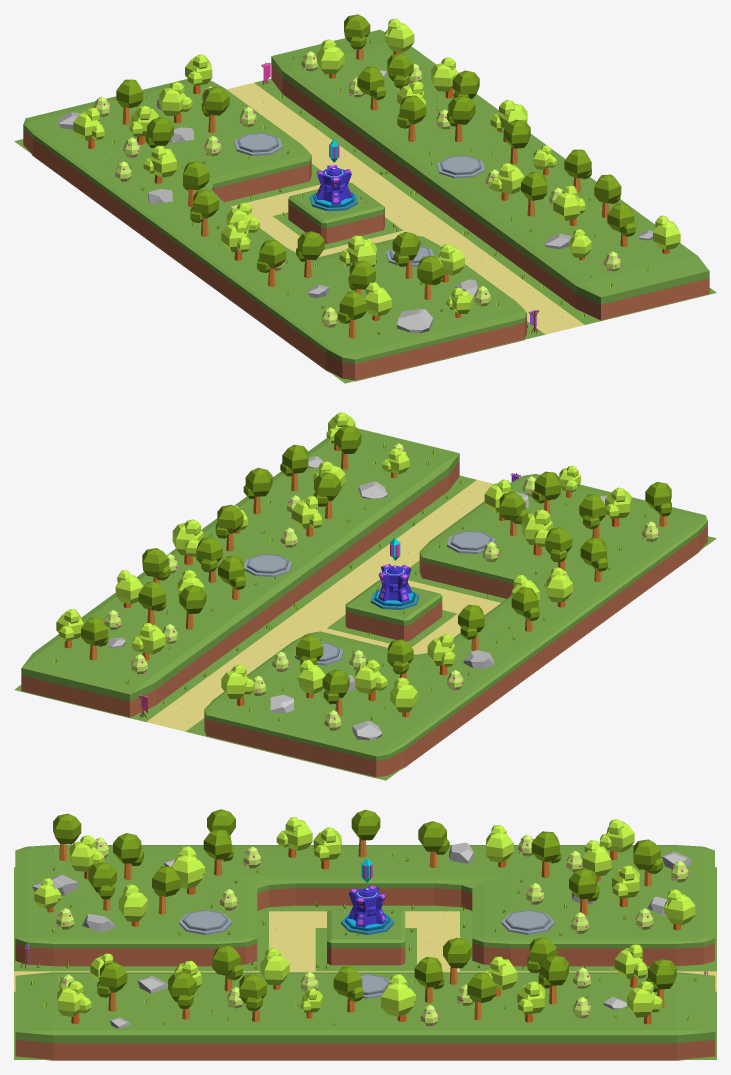
File: enviroment_02.fbx
3 views of the same model, one above another, from view 1: azimuth 30°, elevation 25°; view 2: azimuth 150°, elevation 25°; view 3: azimuth 270°, elevation 25° (orthographic). The views are drawn at different scales.
Visible parts, largest first — view 1: Cube, Cube.001, Plane, Cube.002, Tower, Platform.001, Platform.002, Cube.003, Leaves.035, Leaves.029, Leaves.084, Leaves.033 (+21 smaller); view 2: Cube, Cube.001, Plane, Cube.002, Tower, Platform.002, Platform.005, Leaves.045, Leaves, Leaves.029, Leaves.074, Leaves.089 (+13 smaller); view 3: Cube, Cube.001, Plane, Cube.002, Tower, Platform.001, Platform.005, Leaves.024, Leaves.080, Leaves.037, Leaves.041, Leaves.067 (+40 smaller).
Part boxes in pixels (x1,y1,x2,y2): Cube: (23,79,526,381); Cube.001: (271,29,709,320); Plane: (14,78,716,383); Cube.002: (288,182,384,244); Tower: (316,165,351,204); Platform.001: (234,133,282,155); Platform.002: (436,155,485,178); Cube.003: (397,308,432,333); Leaves.035: (503,119,530,148); Leaves.029: (564,149,591,178); Leaves.084: (116,79,143,108); Leaves.033: (594,174,621,203); Cube: (204,474,707,777); Cube.001: (21,428,459,717); Plane: (14,475,716,780); Cube.002: (345,580,442,641); Tower: (378,564,411,602); Platform.002: (244,554,291,576); Platform.005: (447,531,495,553); Leaves.045: (179,585,206,613); Leaves: (334,425,361,453); Leaves.029: (245,468,272,496); Leaves.074: (546,575,572,602); Leaves.089: (390,684,417,712); Cube: (15,845,714,966); Cube.001: (15,972,715,1060); Plane: (14,867,716,1059); Cube.002: (327,910,405,965); Tower: (348,885,386,927); Platform.001: (501,910,554,934); Platform.005: (179,910,232,934); Leaves.024: (381,983,414,1016); Leaves.080: (172,855,203,889); Leaves.037: (414,957,442,987); Leaves.041: (467,972,496,1003); Leaves.067: (203,829,231,859).
Size of the model in its own units: 2051 by 452 by 3163.
